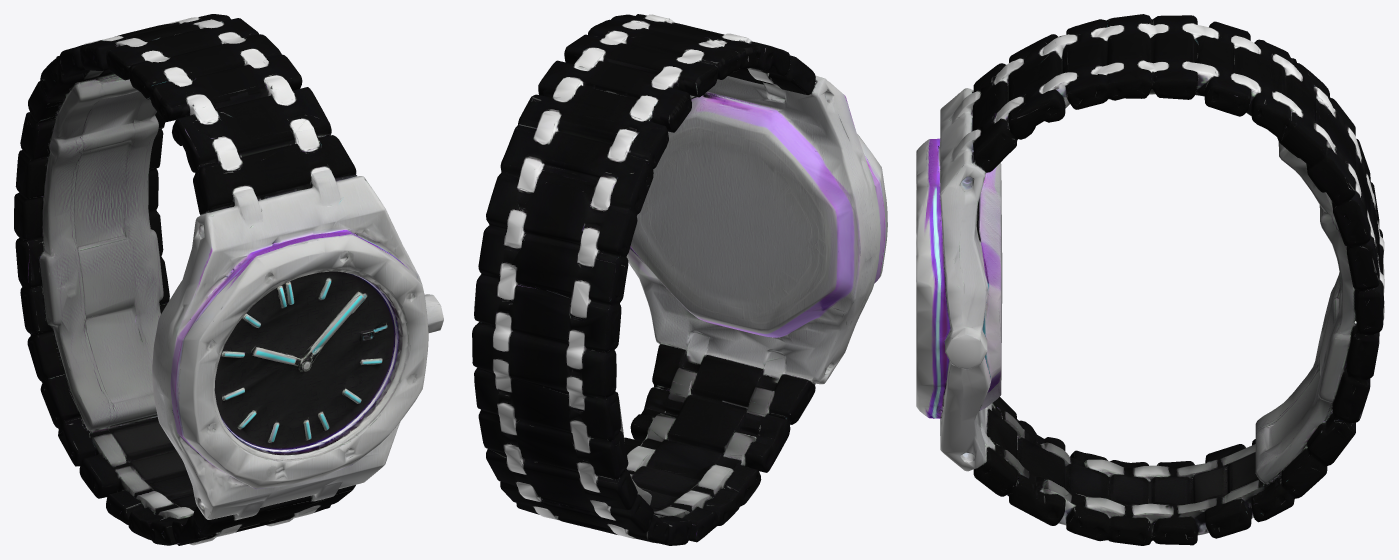
Rendered from watch.glb.
The picture shows the model from 3 angles, left to right: view 1: azimuth 30°, elevation 25°; view 2: azimuth 150°, elevation 25°; view 3: azimuth 270°, elevation 25°; orthographic projection.
Visible parts, largest first — view 1: Mesh_0; view 2: Mesh_0; view 3: Mesh_0.
Boxes of the visible parts, <box> form: Mesh_0: <box>14,14,443,545</box>; Mesh_0: <box>472,14,887,545</box>; Mesh_0: <box>916,14,1384,545</box>.
Bounding box in the file's own units: 1.17 × 1.91 × 1.73.
Materials: 1 (1 with a texture image).
